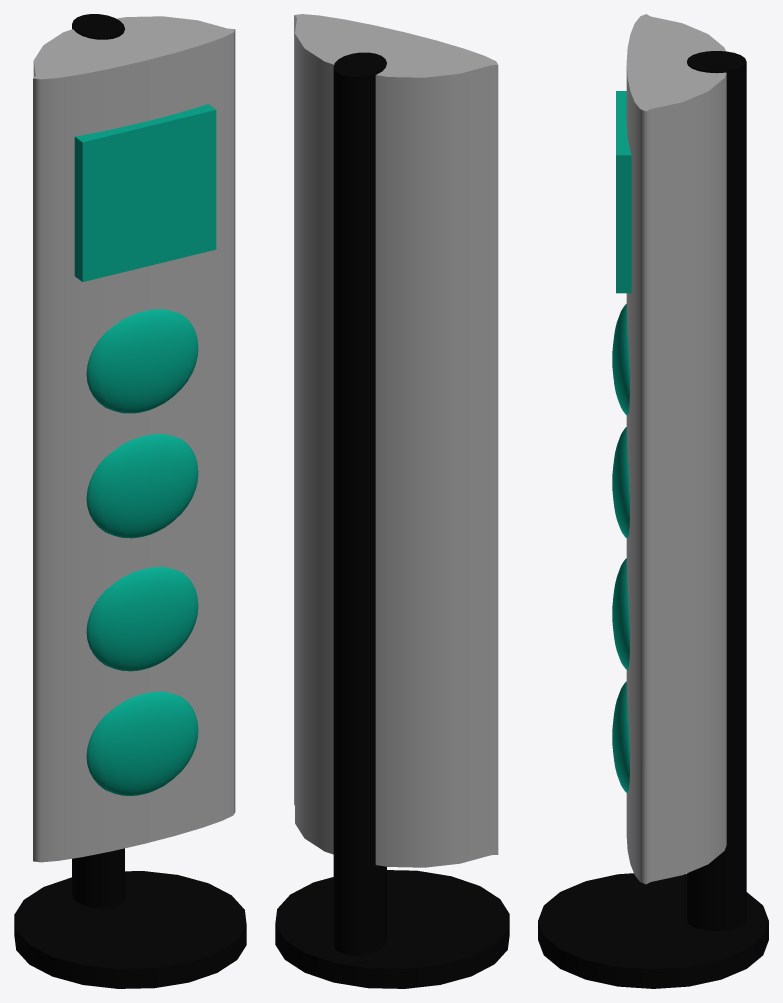
The model's file is Speaker.fbx.
The picture shows the model from 3 angles, left to right: view 1: azimuth 30°, elevation 25°; view 2: azimuth 150°, elevation 25°; view 3: azimuth 270°, elevation 25°; orthographic projection. The views are drawn at different scales.
Parts seen in each view (by area): view 1: pCylinder1, pCylinder2, pCube1, pasted__pSphere1 (×2), pasted__pasted__pSphere1, pSphere1, pCylinder3; view 2: pCylinder1, pCylinder3, pCylinder2; view 3: pCylinder1, pCylinder3, pCylinder2, pCube1, pasted__pSphere1 (×2), pasted__pasted__pSphere1, pSphere1.
Part boxes in pixels (box(x1,y1,x2,y2)): pCylinder1: box(33, 16, 235, 862); pCylinder2: box(14, 871, 246, 988); pCube1: box(74, 104, 216, 281); pasted__pSphere1 (×2): box(86, 434, 198, 671); pasted__pasted__pSphere1: box(86, 309, 198, 413); pSphere1: box(86, 691, 198, 795); pCylinder3: box(72, 14, 124, 908); pCylinder1: box(294, 14, 498, 867); pCylinder3: box(333, 52, 386, 955); pCylinder2: box(275, 870, 509, 988); pCylinder1: box(626, 14, 726, 884); pCylinder3: box(687, 51, 746, 930); pCylinder2: box(538, 873, 768, 988); pCube1: box(616, 91, 631, 293); pasted__pSphere1 (×2): box(612, 427, 629, 670); pasted__pasted__pSphere1: box(612, 304, 629, 415); pSphere1: box(612, 681, 629, 793).
Bounding box in the file's own units: 2 × 8.4 × 2.
